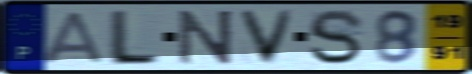8: (373, 8, 420, 66)
A: (40, 10, 107, 65)
L: (104, 8, 163, 67)
N: (176, 8, 236, 67)
S: (306, 8, 366, 67)
V: (235, 8, 299, 67)
